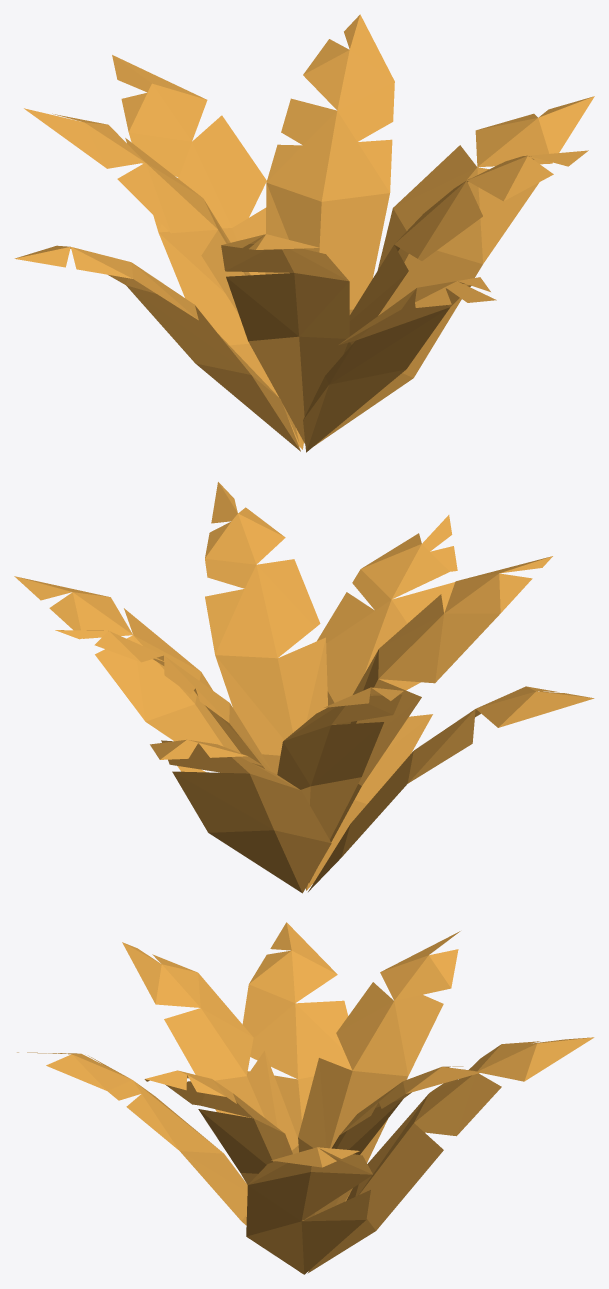
Rendered from palm-bush-big.fbx.
3 renders of one model, top to bottom at view 1: azimuth 30°, elevation 25°; view 2: azimuth 150°, elevation 25°; view 3: azimuth 270°, elevation 25°, orthographic. The views are drawn at different scales.
Visible parts, largest first — view 1: palm-bush-big; view 2: palm-bush-big; view 3: palm-bush-big.
Part boxes in pixels (x1=…): palm-bush-big: x1=14, y1=14, x2=594, y2=452; palm-bush-big: x1=14, y1=482, x2=594, y2=893; palm-bush-big: x1=17, y1=922, x2=594, y2=1274.
Size of the model in its own units: 3.11 by 1.61 by 3.11.
